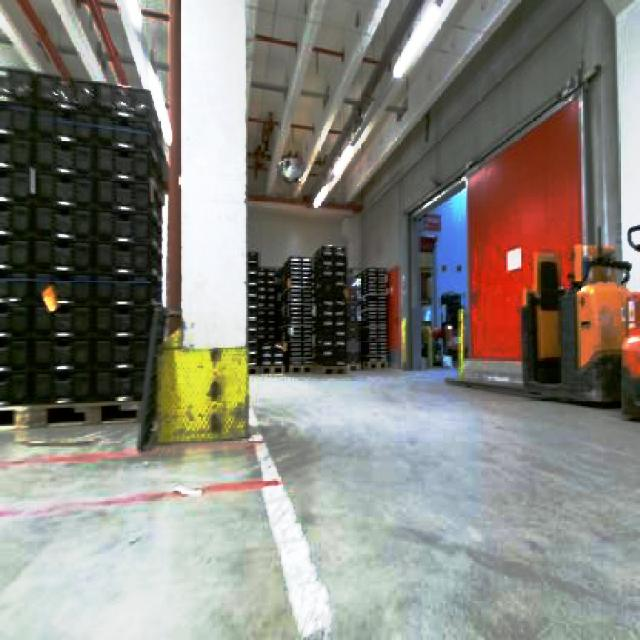ground: (0, 362, 638, 638)
pallet: (0, 60, 169, 426), (0, 275, 158, 408), (246, 243, 391, 372), (312, 243, 348, 372), (246, 251, 282, 372), (278, 254, 314, 371), (354, 266, 389, 368)
